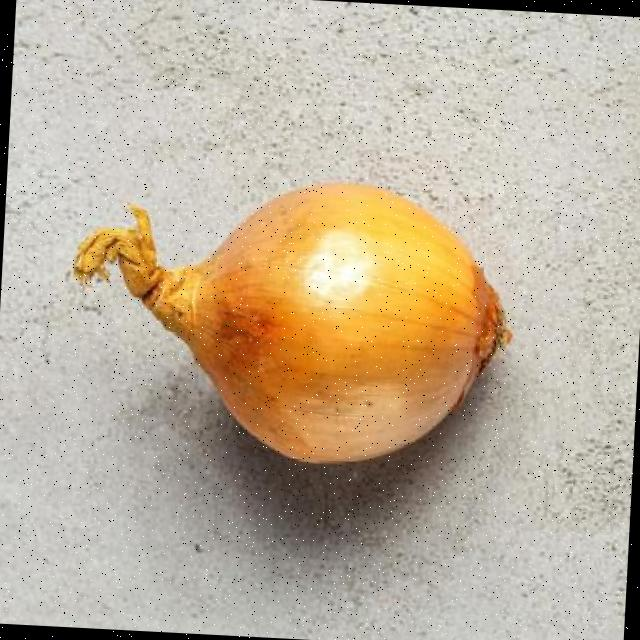Onion: (74, 181, 511, 462)
